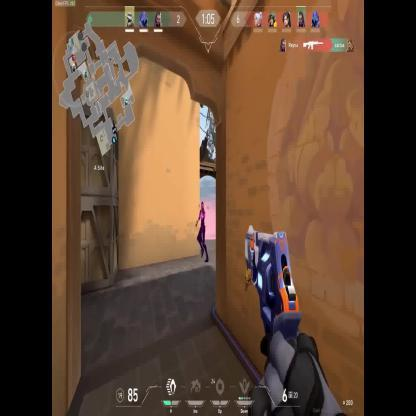enemy: (197, 201, 209, 262)
enemy_head: (201, 201, 204, 210)
